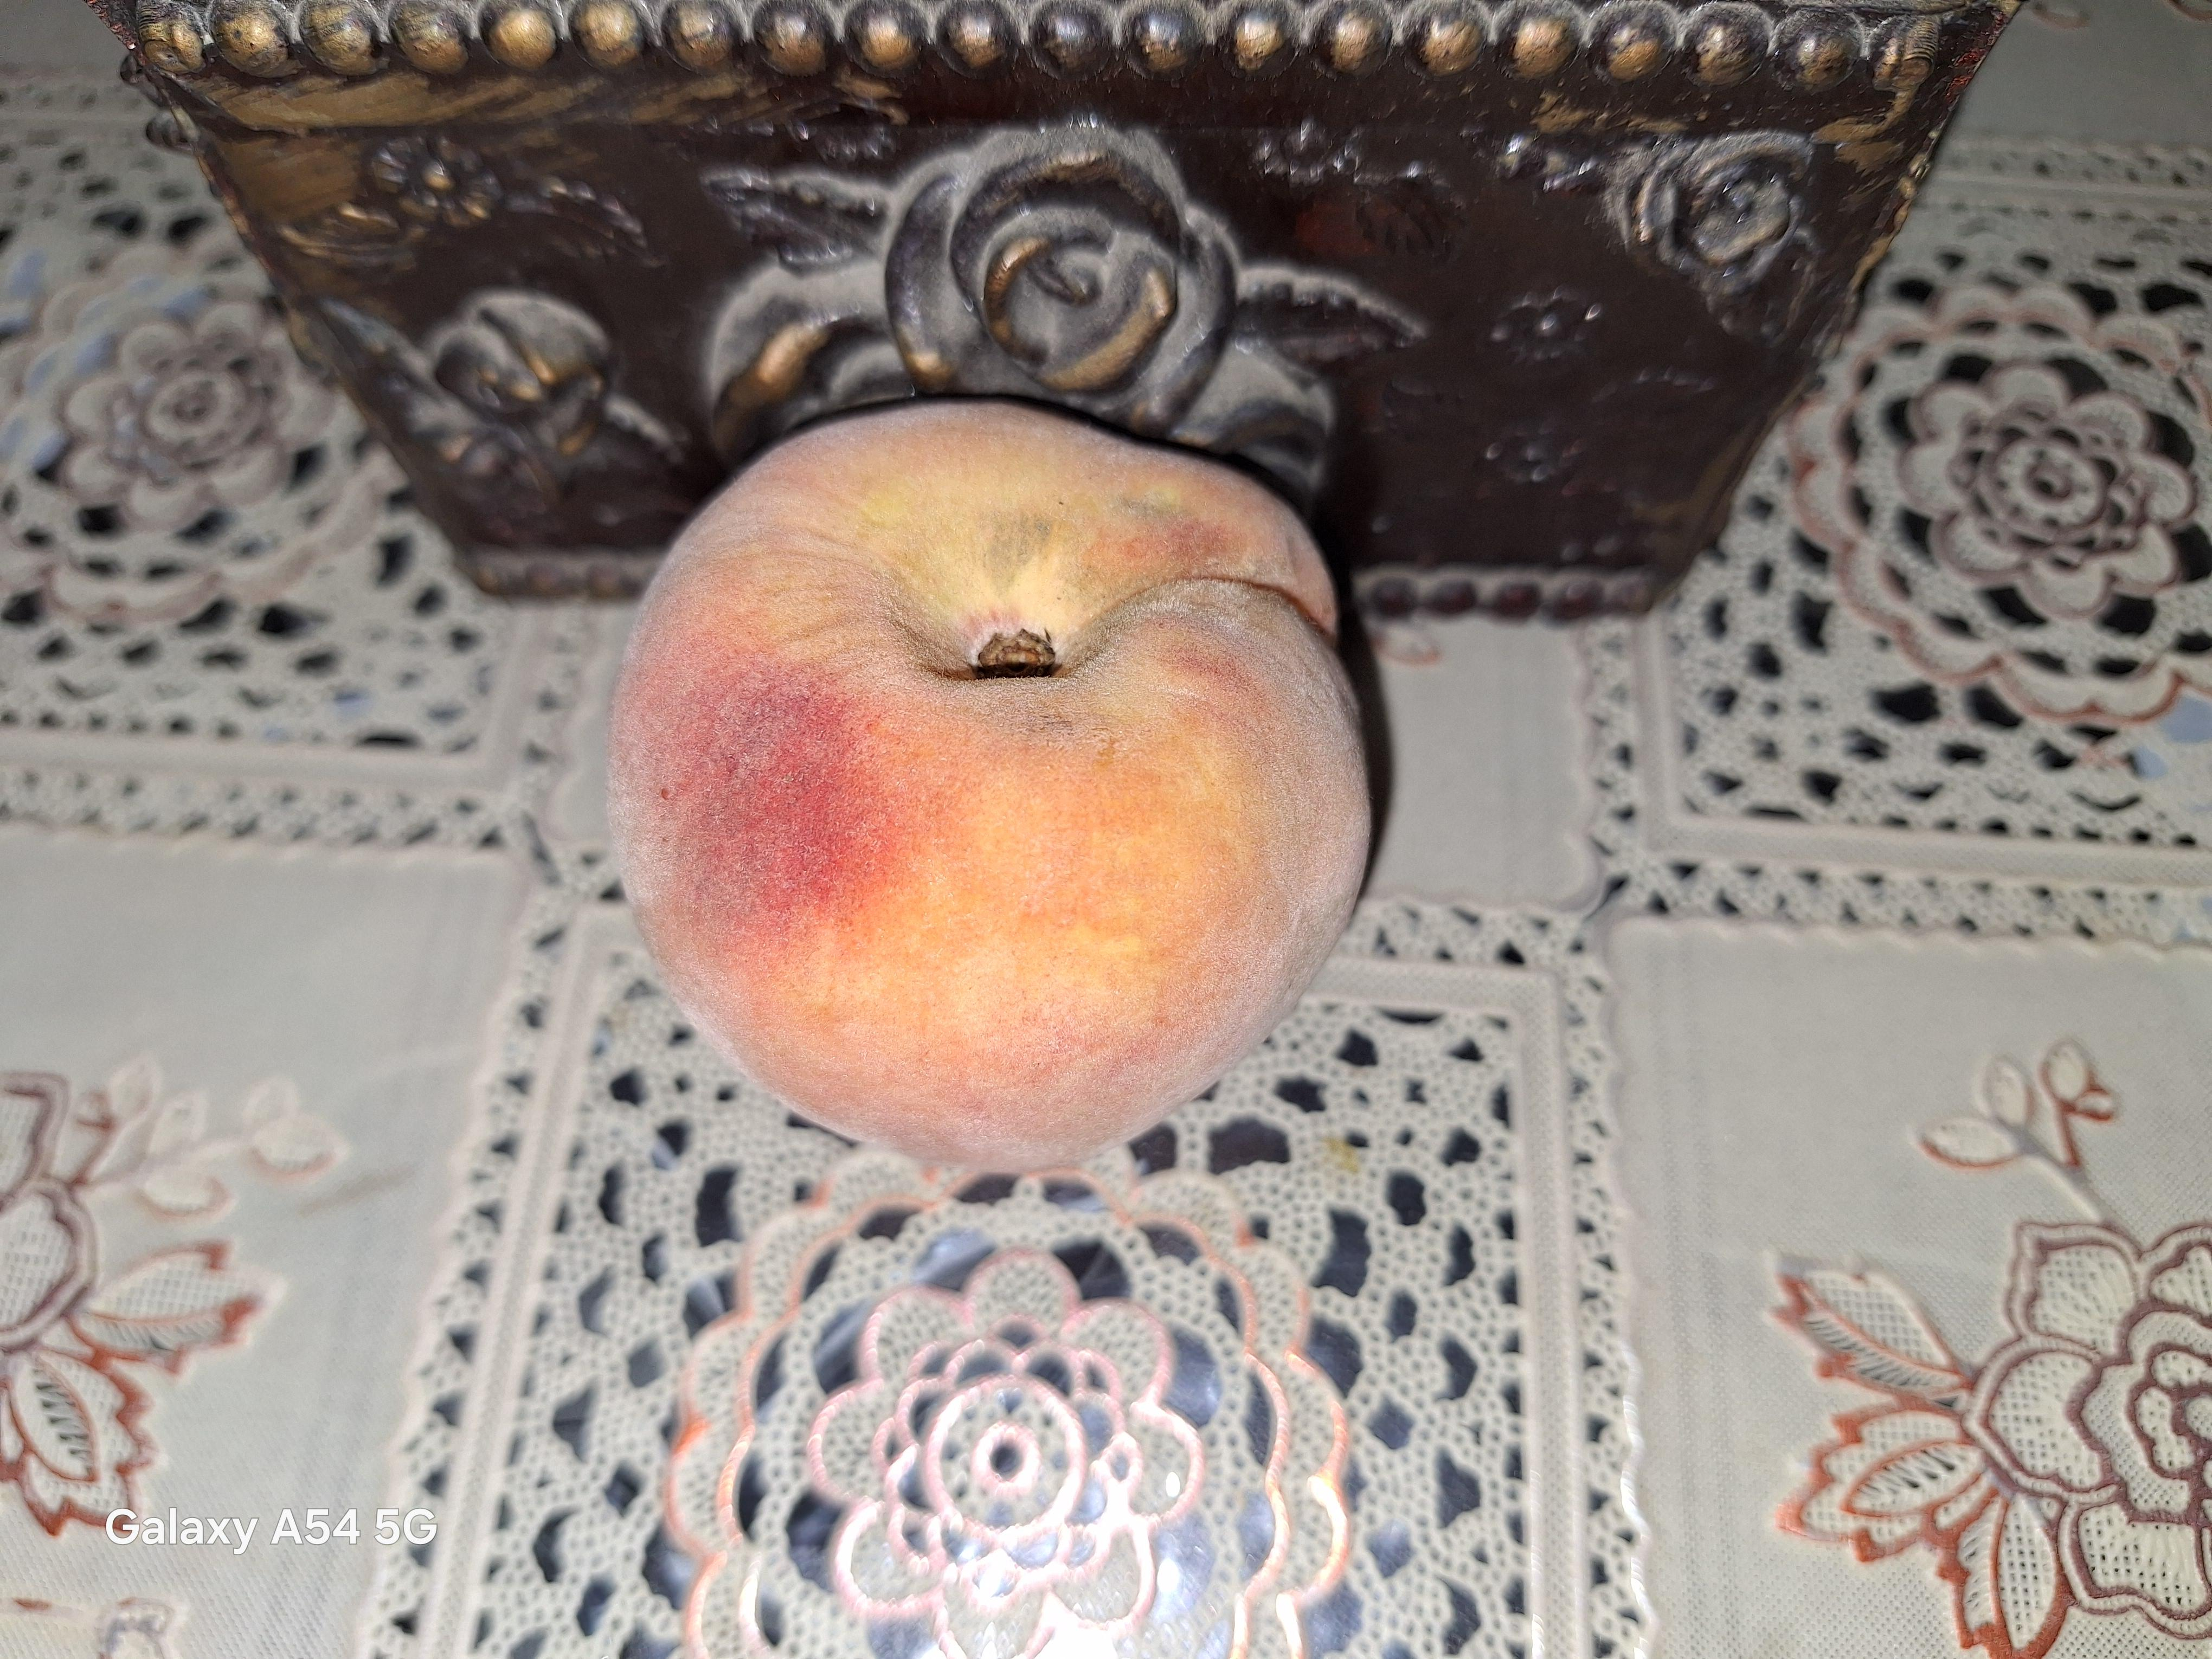non-mango: (596, 403, 1406, 1171)
